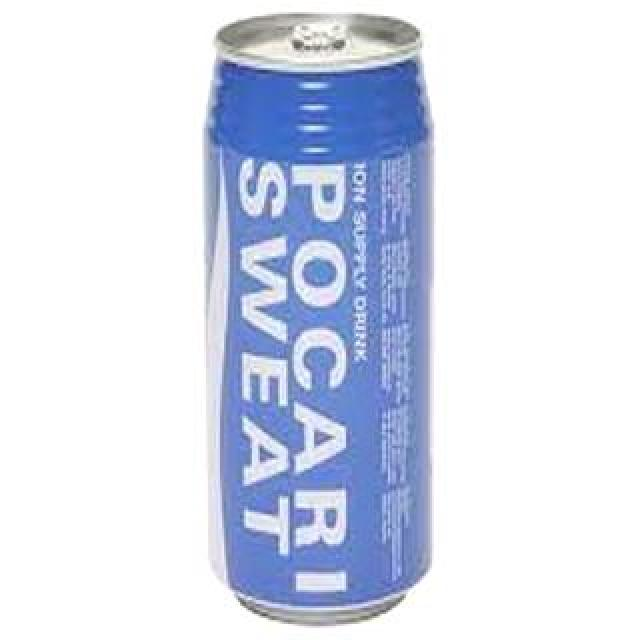Can: (197, 2, 445, 626)
